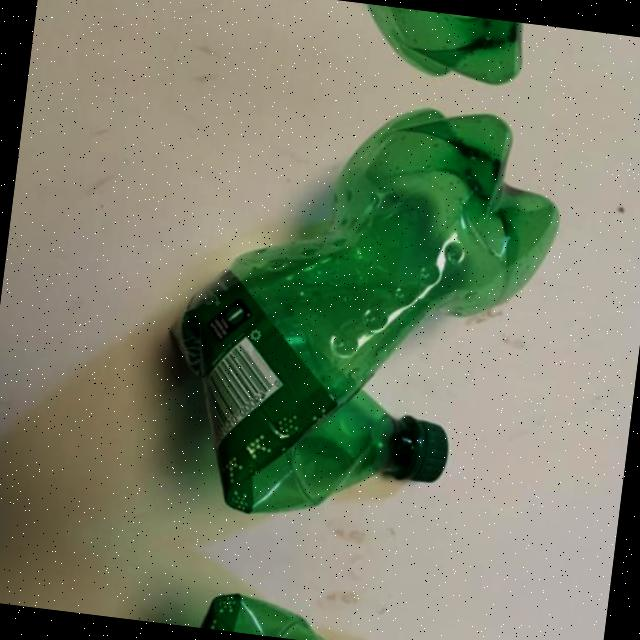Plastic: (125, 60, 583, 570), (181, 0, 592, 109), (113, 555, 522, 640)
